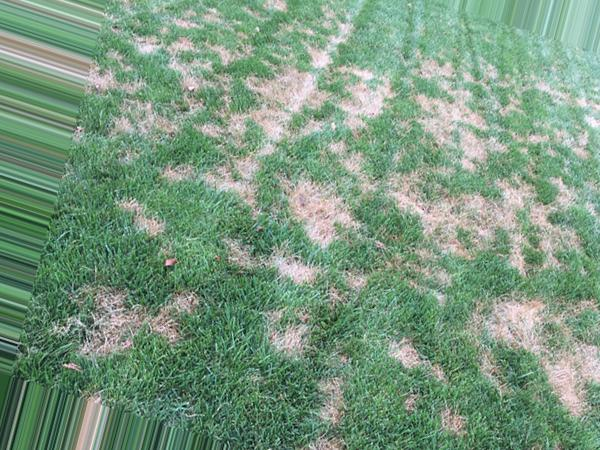patch: (492, 304, 585, 401), (392, 195, 503, 258), (86, 297, 185, 344), (287, 180, 351, 240), (426, 101, 486, 161), (263, 73, 309, 137), (348, 81, 382, 118)
